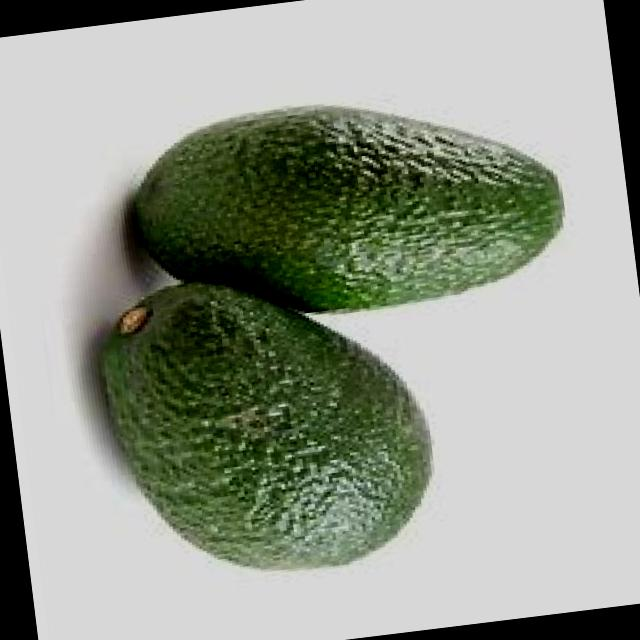avocado: (90, 253, 445, 618), (109, 79, 566, 347)
